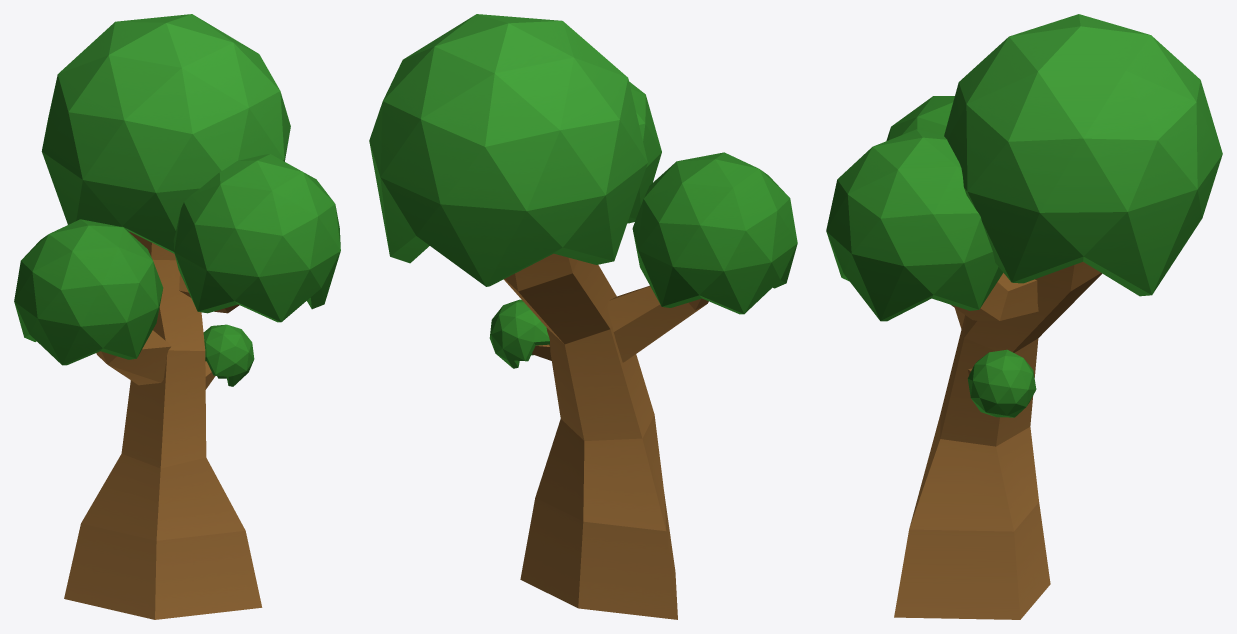
File: TreeSmall.fbx
The picture shows the model from 3 angles, left to right: view 1: azimuth 30°, elevation 25°; view 2: azimuth 150°, elevation 25°; view 3: azimuth 270°, elevation 25°; orthographic projection. The views are drawn at different scales.
Visible parts, largest first — view 1: Little Tree; view 2: Little Tree; view 3: Little Tree.
Boxes of the visible parts, left/top/right/bottom form: Little Tree: left=14, top=14, right=340, bottom=619; Little Tree: left=369, top=14, right=797, bottom=619; Little Tree: left=826, top=14, right=1222, bottom=619.
Bounding box in the file's own units: 456 × 761 × 468.
